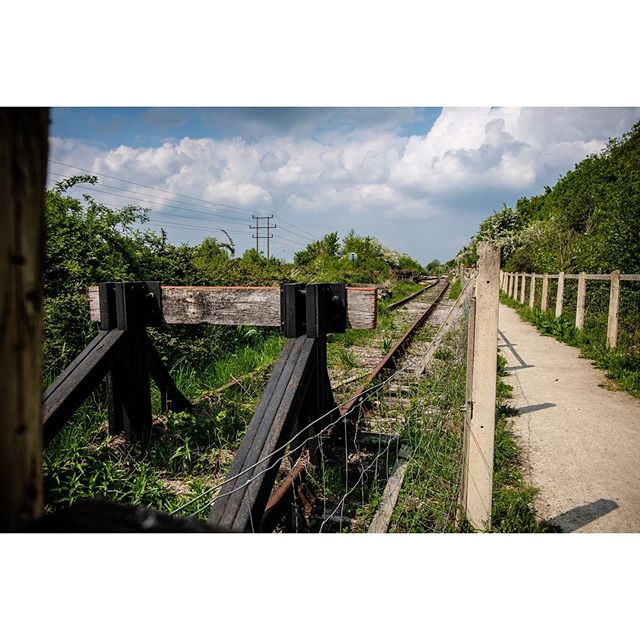pathway: (482, 277, 638, 527)
sky: (52, 108, 609, 257)
train track: (20, 256, 481, 529)
vegetation: (487, 130, 640, 372)
